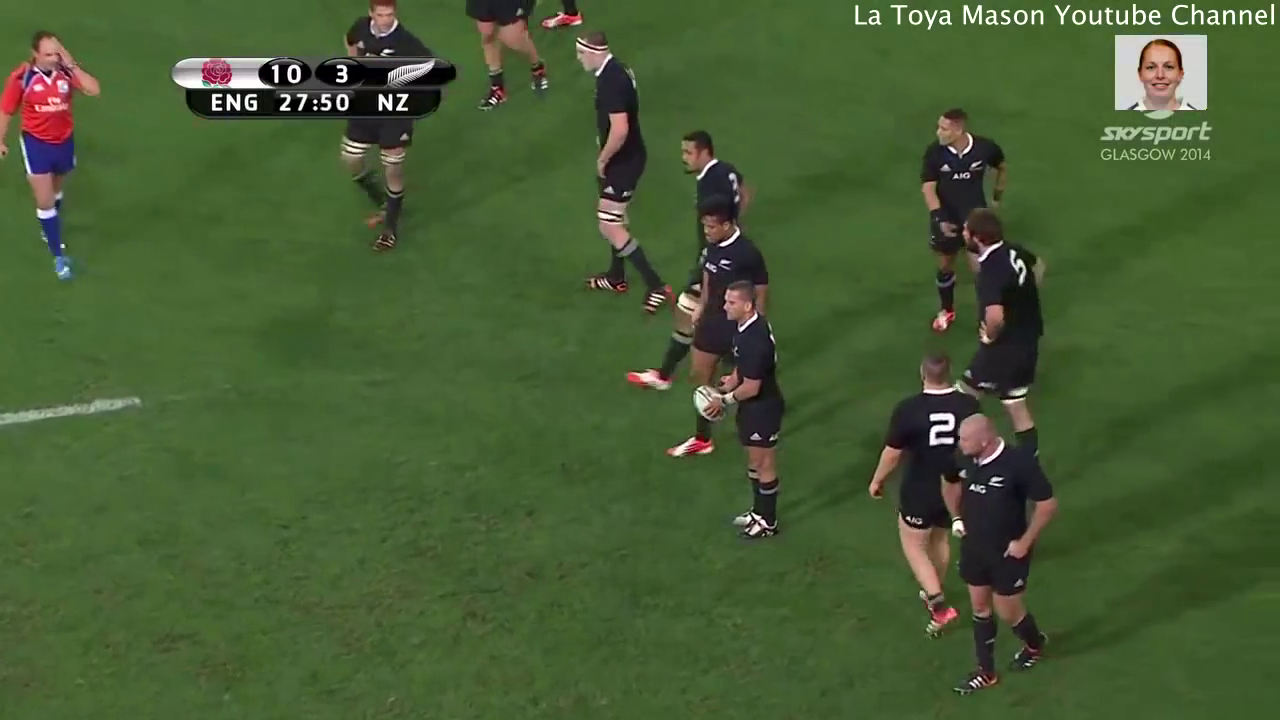ball: (682, 372, 731, 432)
player: (932, 405, 1073, 700), (557, 27, 682, 323), (868, 344, 987, 641), (624, 123, 753, 396), (661, 196, 777, 468), (938, 204, 1057, 468), (332, 1, 449, 260), (1, 19, 111, 284), (689, 276, 793, 546), (913, 100, 1017, 350), (461, 1, 555, 116)
